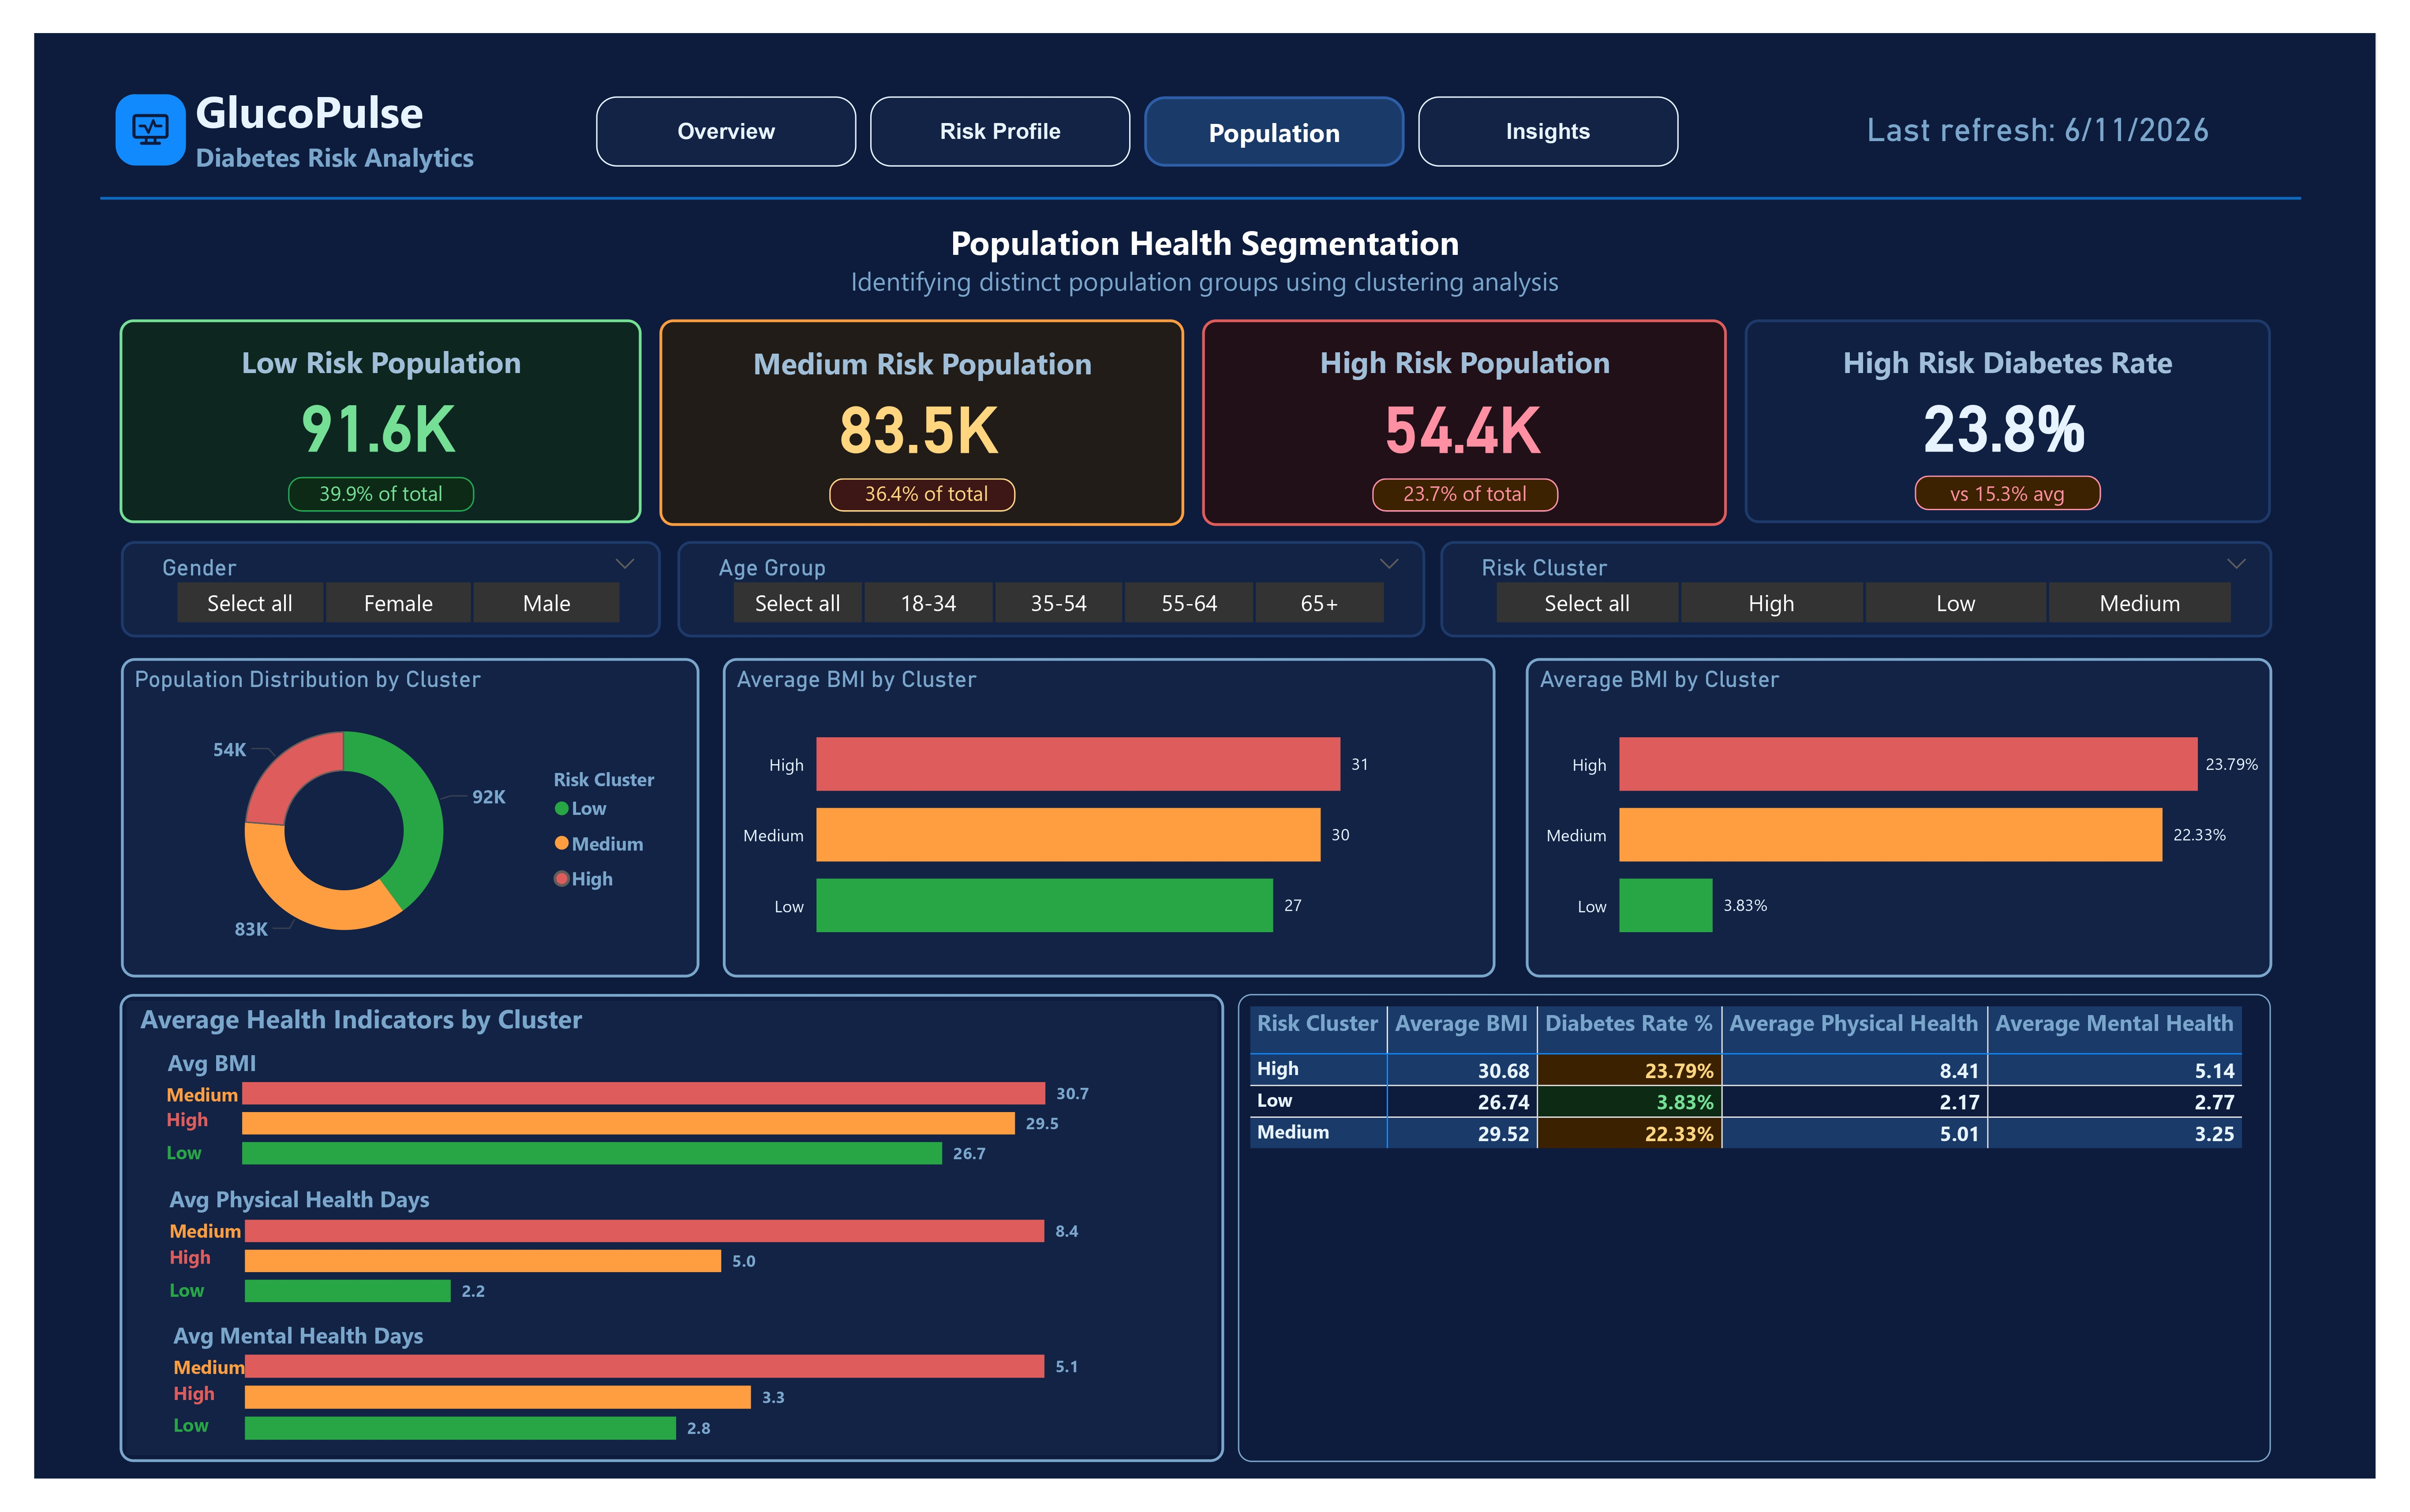

Layout of this report page (visuals, bound fields, positions):
{"tool":"powerbi","page":{"name":"Population","canvas":[1700,1050],"ordinal":2},"visuals":[{"type":"textbox","box":[112.5,29,228.4,78.4],"z":0},{"type":"pageNavigator","box":[408.1,46.2,788.1,51.9],"z":1000},{"type":"shape","box":[48,98,1598,44],"z":2000},{"type":"image","box":[0,4.4,167.8,147.2],"z":3000},{"type":"card","fields":{"Values":["dashboard_diabetes_data.Last Refresh"]},"box":[1260,16,390,106],"z":4000},{"type":"card","title":"Total Population","fields":{"Values":["dashboard_diabetes_data.Low Risk Population"]},"box":[62.4,208.1,379.1,147.6],"z":5000},{"type":"textbox","box":[78.8,219.2,346,40],"z":6000},{"type":"shape","box":[184.3,322,135.8,25.8],"z":7000},{"type":"textbox","box":[546,130,608,72],"z":8000},{"type":"card","title":"Total Population","fields":{"Values":["dashboard_diabetes_data.Medium Risk Population"]},"box":[454.2,208.1,380.9,149.4],"z":9000},{"type":"textbox","box":[471.8,219.5,346.7,41.7],"z":10000},{"type":"card","title":"Total Population","fields":{"Values":["dashboard_diabetes_data.High Risk Population"]},"box":[847.9,208.1,380.9,149.4],"z":11000},{"type":"textbox","box":[864.8,219.2,348,44],"z":12000},{"type":"card","title":"Total Population","fields":{"Values":["dashboard_diabetes_data.High Risk Diabetes Rate"]},"box":[1241.6,208.1,382.7,147.6],"z":13000},{"type":"textbox","box":[1268.8,219.2,328,40],"z":14000},{"type":"textbox","box":[182.3,320.3,140,32.7],"z":15000},{"type":"slicer","title":"Sex","fields":{"Values":["dashboard_diabetes_data.Gender"]},"box":[62.8,369.2,392,70],"z":16000},{"type":"slicer","title":"Sex","fields":{"Values":["dashboard_diabetes_data.Age Group"]},"box":[466.8,369.2,543,70],"z":17000},{"type":"slicer","title":"Sex","fields":{"Values":["dashboard_diabetes_data.Risk Cluster"]},"box":[1020.8,369.2,604,70],"z":18000},{"type":"shape","box":[576.8,322.9,136.7,25],"z":19000},{"type":"shape","box":[970.8,323.2,136,25],"z":20000},{"type":"textbox","box":[979.8,320.2,118,36],"z":21000},{"type":"textbox","box":[576.8,320.3,141.8,32.7],"z":22000},{"type":"shape","box":[1364.8,321.2,136,26],"z":23000},{"type":"textbox","box":[1373.8,320.2,118,36],"z":24000},{"type":"donutChart","title":"Population Distribution by Cluster","fields":{"Y":["dashboard_diabetes_data.Count of Patients"],"Category":["dashboard_diabetes_data.Risk Cluster"]},"box":[62.5,453.8,420,232.5],"z":25000},{"type":"clusteredBarChart","title":"Average BMI by Cluster","fields":{"Y":["dashboard_diabetes_data.Average BMI"],"Category":["dashboard_diabetes_data.Risk Cluster"]},"box":[500,453.8,561.2,232.5],"z":26000},{"type":"clusteredBarChart","title":"Average BMI by Cluster","fields":{"Category":["dashboard_diabetes_data.Risk Cluster"],"Y":["dashboard_diabetes_data.Diabetes Rate %"]},"box":[1082.5,453.8,542.5,232.5],"z":27000},{"type":"shape","box":[62,698,802,340],"z":28000},{"type":"clusteredBarChart","fields":{"Category":["dashboard_diabetes_data.Risk Cluster"],"Y":["dashboard_diabetes_data.Average BMI"]},"box":[146,752,704,78],"z":29000},{"type":"textbox","box":[91.9,731.6,350,40],"z":30000},{"type":"textbox","box":[91.3,756.6,67.5,30],"z":31000},{"type":"textbox","box":[91.3,775.4,67.5,30],"z":32000},{"type":"textbox","box":[91.3,799.1,67.5,30],"z":33000},{"type":"clusteredBarChart","fields":{"Category":["dashboard_diabetes_data.Risk Cluster"],"Y":["dashboard_diabetes_data.Average Physical Health"]},"box":[148,852,700,76],"z":34000},{"type":"textbox","box":[93.5,831,350,33.3],"z":35000},{"type":"textbox","box":[92.7,856,67.5,30],"z":36000},{"type":"textbox","box":[93.5,874.8,67.5,30],"z":37000},{"type":"textbox","box":[93.5,898.5,67.5,30],"z":38000},{"type":"clusteredBarChart","fields":{"Category":["dashboard_diabetes_data.Risk Cluster"],"Y":["dashboard_diabetes_data.Average Mental Health"]},"box":[148,950,700,78],"z":39000},{"type":"textbox","box":[95.9,929.9,350,32.5],"z":40000},{"type":"textbox","box":[95.7,954.9,67.5,30],"z":41000},{"type":"textbox","box":[96.4,973.7,67.5,30],"z":42000},{"type":"textbox","box":[96.4,997.4,67.5,30],"z":43000},{"type":"textbox","box":[72,698,352,52],"z":44000},{"type":"pivotTable","fields":{"Rows":["dashboard_diabetes_data.Risk Cluster"],"Values":["dashboard_diabetes_data.Average BMI","dashboard_diabetes_data.Diabetes Rate %","dashboard_diabetes_data.Average Physical Health","dashboard_diabetes_data.Average Mental Health"]},"box":[874,698,750,340],"z":45000}]}

Visuals, with their boxes on the page's 1700x1050 design canvas (x1, y1, x2, y2). These are canvas units, not pixel positions in the 2410x1512 screenshot, which may show the page scaled, cropped or inside an application window:
textbox: [x1=112, y1=29, x2=341, y2=107]
pageNavigator: [x1=408, y1=46, x2=1196, y2=98]
shape: [x1=48, y1=98, x2=1646, y2=142]
image: [x1=0, y1=4, x2=168, y2=152]
card - dashboard_diabetes_data.Last Refresh: [x1=1260, y1=16, x2=1650, y2=122]
"Total Population" card: [x1=62, y1=208, x2=442, y2=356]
textbox: [x1=79, y1=219, x2=425, y2=259]
shape: [x1=184, y1=322, x2=320, y2=348]
textbox: [x1=546, y1=130, x2=1154, y2=202]
"Total Population" card: [x1=454, y1=208, x2=835, y2=358]
textbox: [x1=472, y1=220, x2=818, y2=261]
"Total Population" card: [x1=848, y1=208, x2=1229, y2=358]
textbox: [x1=865, y1=219, x2=1213, y2=263]
"Total Population" card: [x1=1242, y1=208, x2=1624, y2=356]
textbox: [x1=1269, y1=219, x2=1597, y2=259]
textbox: [x1=182, y1=320, x2=322, y2=353]
"Sex" slicer: [x1=63, y1=369, x2=455, y2=439]
"Sex" slicer: [x1=467, y1=369, x2=1010, y2=439]
"Sex" slicer: [x1=1021, y1=369, x2=1625, y2=439]
shape: [x1=577, y1=323, x2=714, y2=348]
shape: [x1=971, y1=323, x2=1107, y2=348]
textbox: [x1=980, y1=320, x2=1098, y2=356]
textbox: [x1=577, y1=320, x2=719, y2=353]
shape: [x1=1365, y1=321, x2=1501, y2=347]
textbox: [x1=1374, y1=320, x2=1492, y2=356]
"Population Distribution by Cluster" donutChart: [x1=62, y1=454, x2=482, y2=686]
"Average BMI by Cluster" clusteredBarChart: [x1=500, y1=454, x2=1061, y2=686]
"Average BMI by Cluster" clusteredBarChart: [x1=1082, y1=454, x2=1625, y2=686]
shape: [x1=62, y1=698, x2=864, y2=1038]
clusteredBarChart - dashboard_diabetes_data.Risk Cluster x dashboard_diabetes_data.Average BMI: [x1=146, y1=752, x2=850, y2=830]
textbox: [x1=92, y1=732, x2=442, y2=772]
textbox: [x1=91, y1=757, x2=159, y2=787]
textbox: [x1=91, y1=775, x2=159, y2=805]
textbox: [x1=91, y1=799, x2=159, y2=829]
clusteredBarChart - dashboard_diabetes_data.Risk Cluster x dashboard_diabetes_data.Average Physical Health: [x1=148, y1=852, x2=848, y2=928]
textbox: [x1=94, y1=831, x2=444, y2=864]
textbox: [x1=93, y1=856, x2=160, y2=886]
textbox: [x1=94, y1=875, x2=161, y2=905]
textbox: [x1=94, y1=898, x2=161, y2=928]
clusteredBarChart - dashboard_diabetes_data.Risk Cluster x dashboard_diabetes_data.Average Mental Health: [x1=148, y1=950, x2=848, y2=1028]
textbox: [x1=96, y1=930, x2=446, y2=962]
textbox: [x1=96, y1=955, x2=163, y2=985]
textbox: [x1=96, y1=974, x2=164, y2=1004]
textbox: [x1=96, y1=997, x2=164, y2=1027]
textbox: [x1=72, y1=698, x2=424, y2=750]
pivotTable - dashboard_diabetes_data.Risk Cluster x dashboard_diabetes_data.Average BMI: [x1=874, y1=698, x2=1624, y2=1038]
